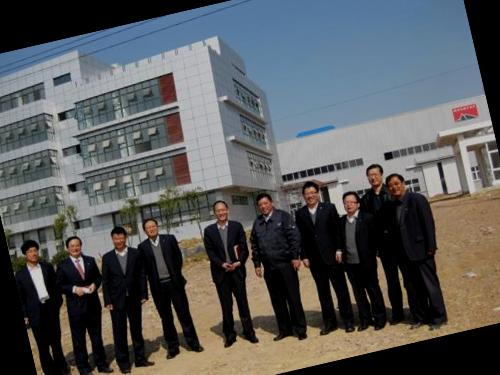no_helmet: (382, 169, 411, 202), (360, 158, 388, 190), (18, 235, 45, 268), (337, 187, 366, 217), (295, 178, 323, 209), (106, 222, 132, 253), (60, 231, 85, 262), (209, 196, 233, 226), (252, 188, 276, 218), (138, 214, 160, 242)
